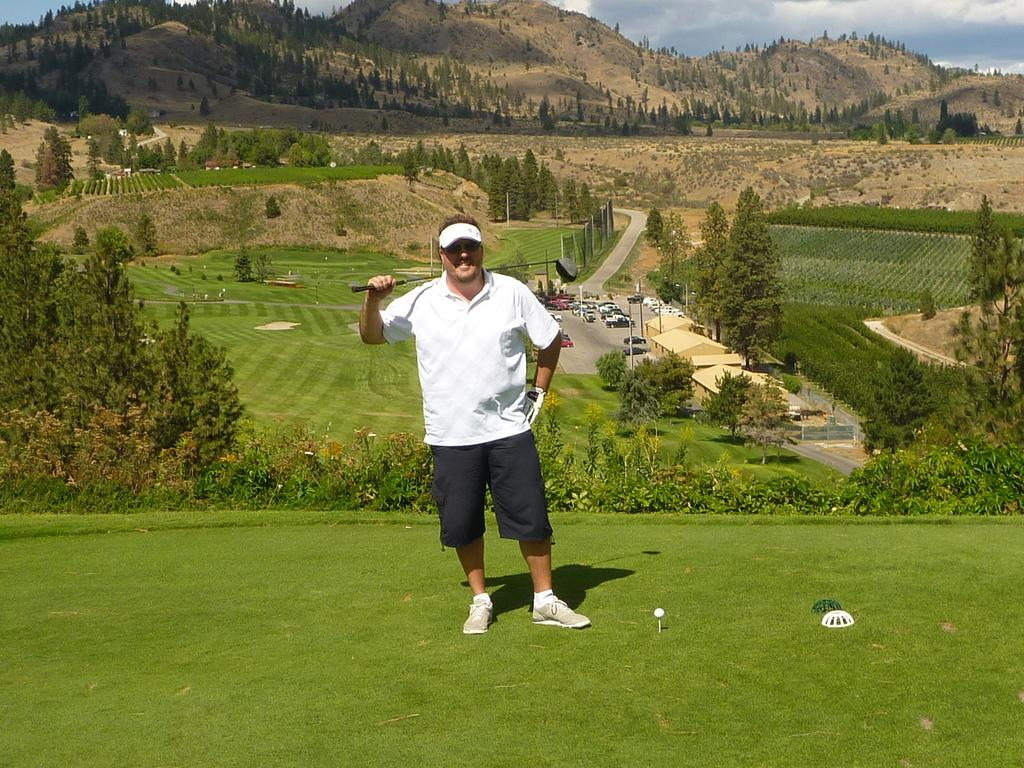Pessoa: (359, 214, 589, 633)
